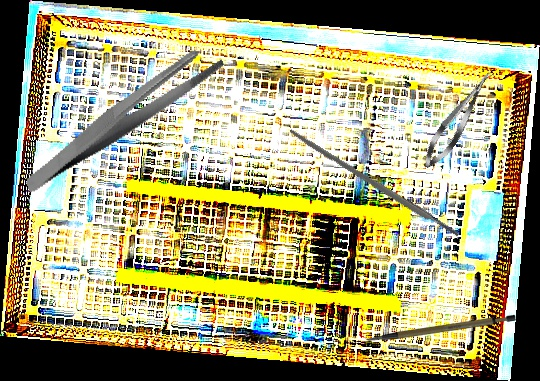Dressing Forceps: (3, 41, 243, 195)
Micro Scissor: (416, 65, 501, 174)
Scalpel Handle: (287, 127, 461, 240), (365, 313, 516, 342)
